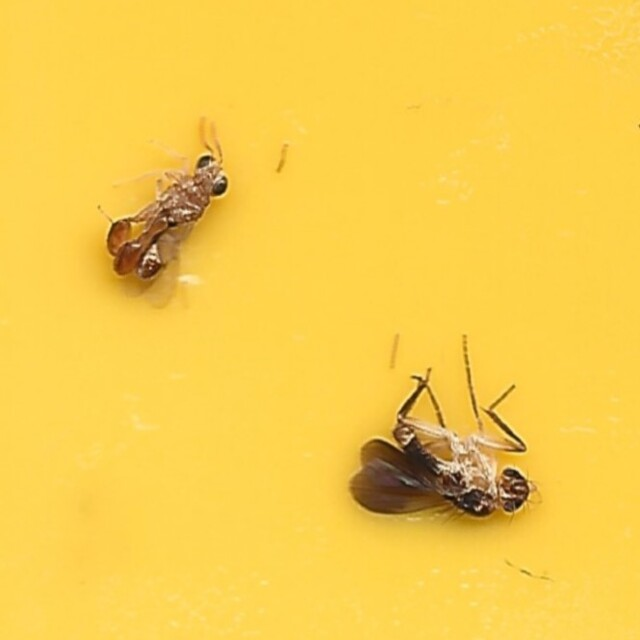Brachycera: (344, 332, 544, 527)
Hymenoptera: (96, 113, 230, 316)
